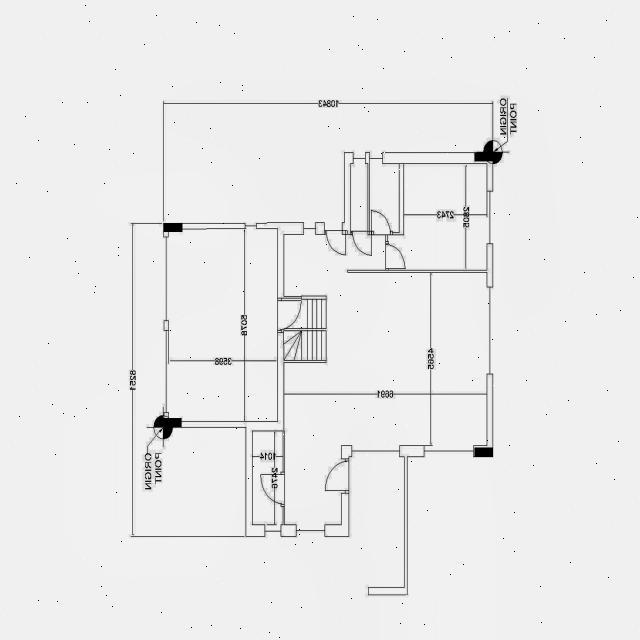Column: (474, 152, 492, 162), (475, 448, 493, 458), (164, 418, 182, 428), (164, 223, 182, 232)
Door: (260, 471, 286, 508), (324, 458, 350, 494), (277, 297, 302, 333), (384, 241, 406, 271), (324, 230, 348, 256), (371, 210, 394, 236), (350, 230, 372, 256)
Staircase: (284, 296, 328, 362)
